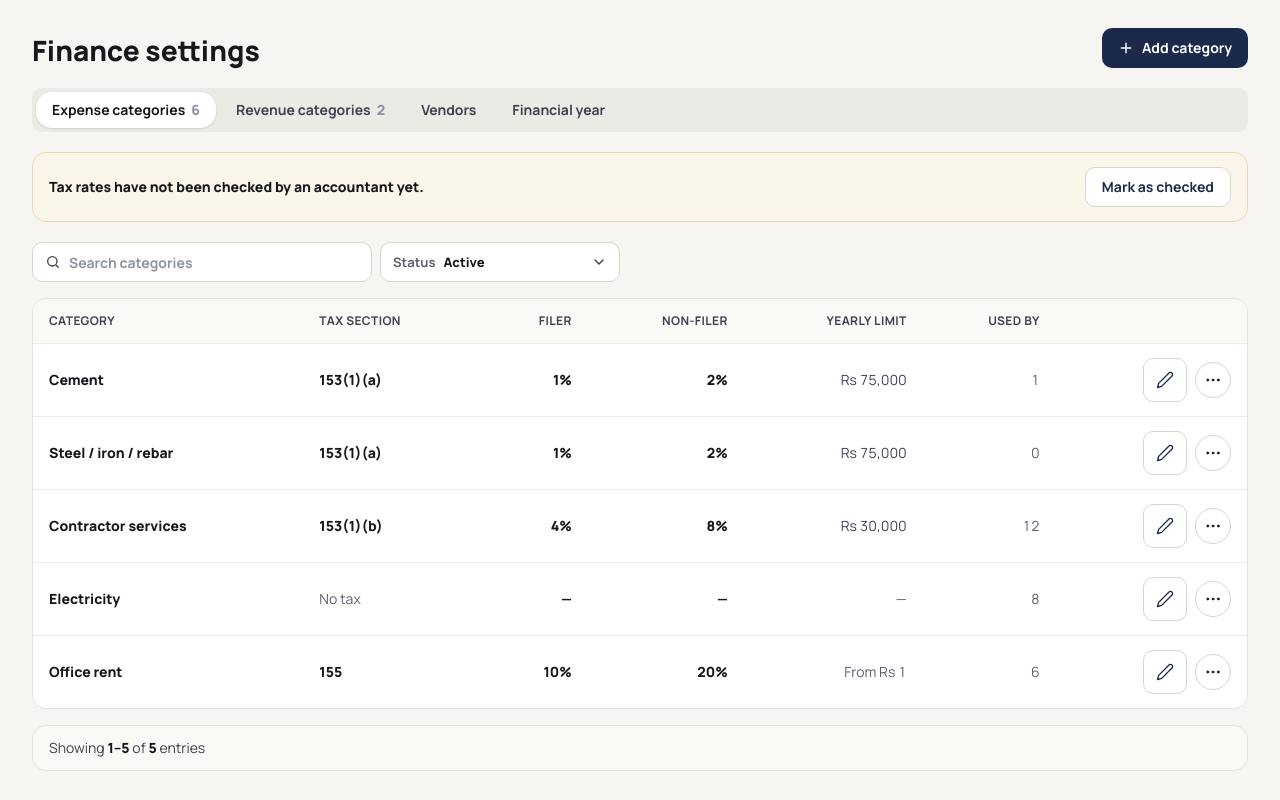
Test case: Finance settings: the rates-not-checked notice › shows only on Expense categories while the rates are unchecked
Expected: the text "Tax rates have not been checked by an accountant yet." is shown, [49,177,424,196]
Click the tab "Revenue categories 2" at {"x": 311, "y": 110}, box [220,92,401,128]
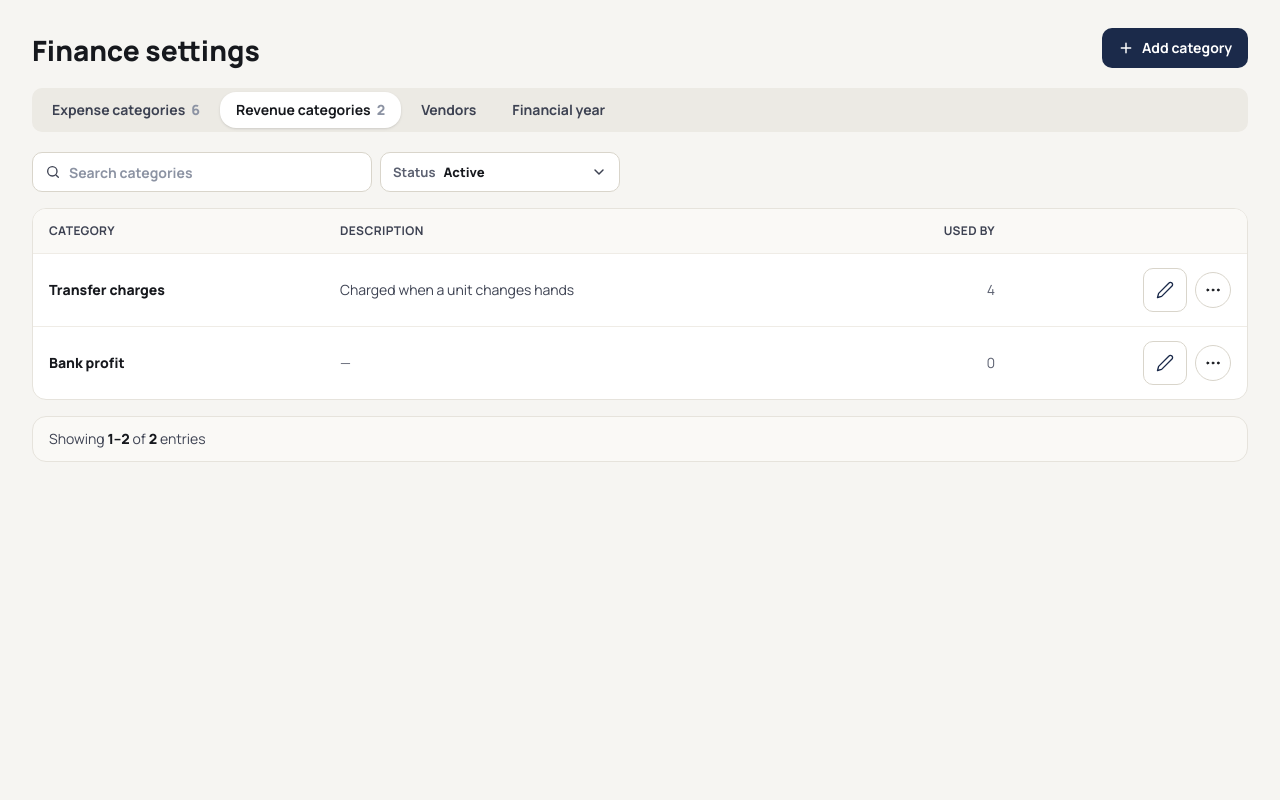
Expected: the text "Tax rates have not been checked by an accountant yet." is gone
